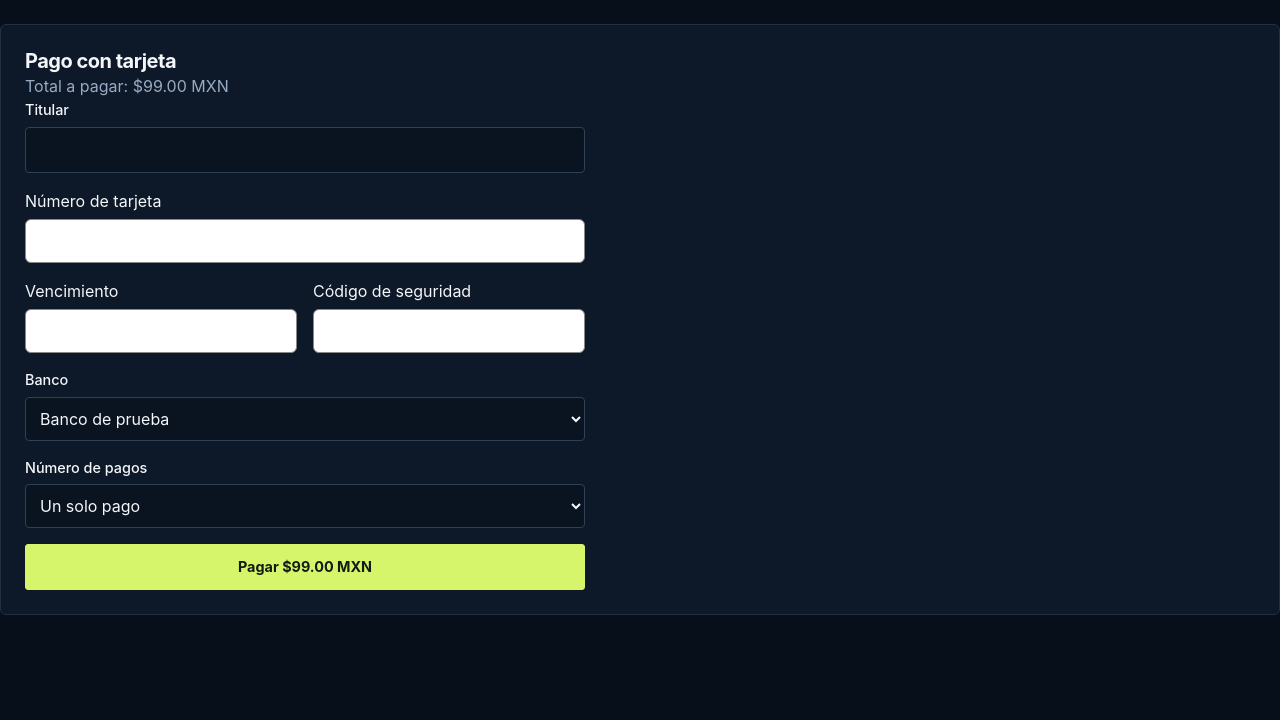
Test case: traduce errores del código de seguridad y no envía el pago
Type "APRO" into the field labelled "Titular". click: x=305, y=150
box: left=25, top=127, right=585, bottom=173
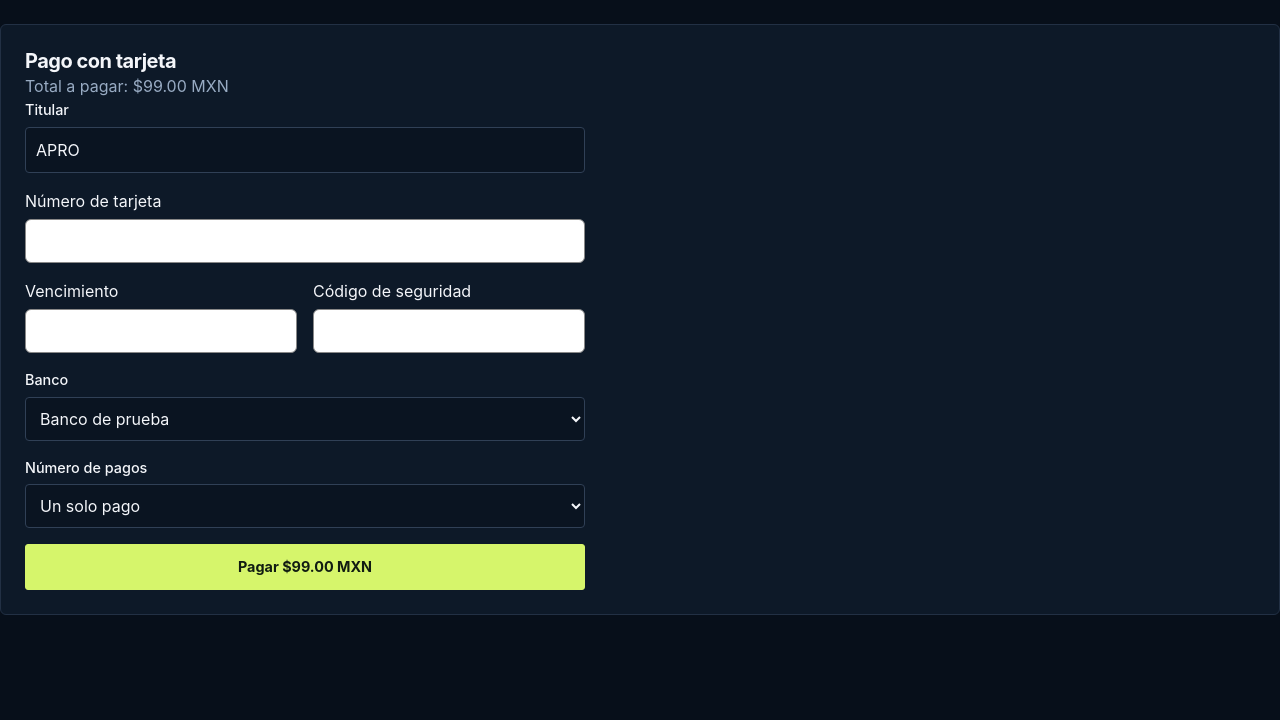
Submit the form named "Pagar $99.00 MXN", box left=25, top=99, right=585, bottom=590
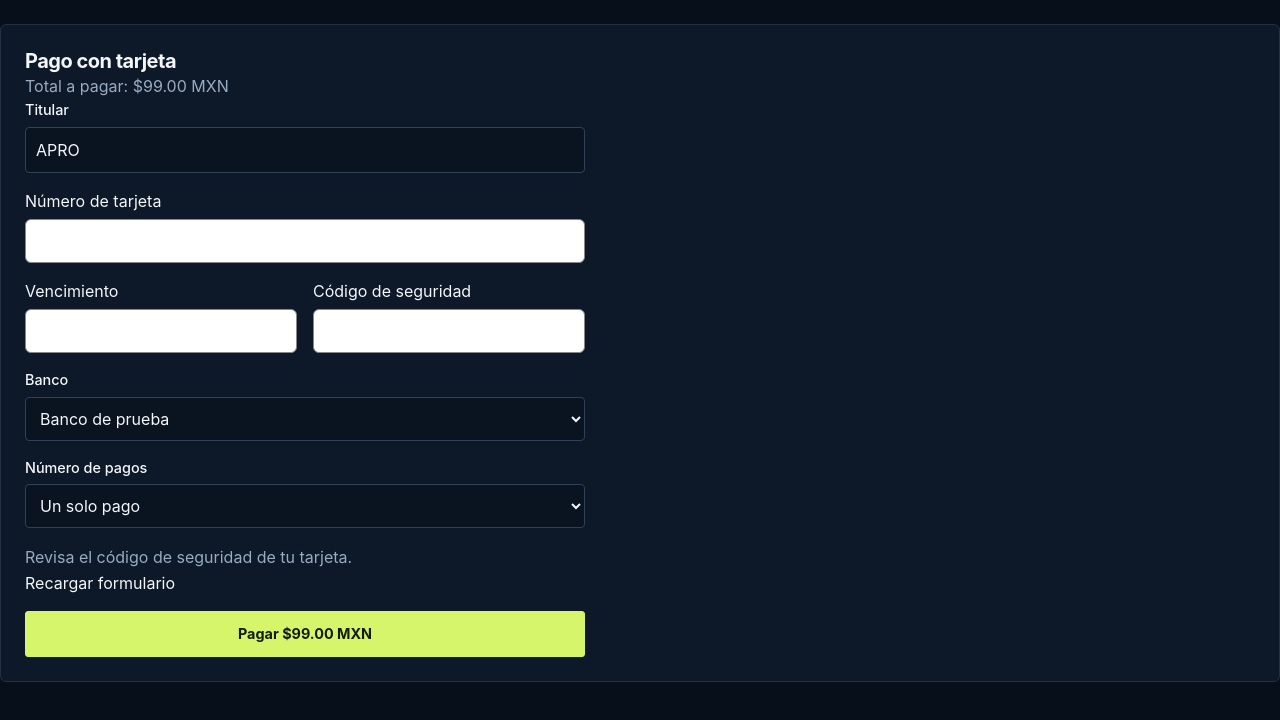
Expected: the text "Revisa el código de seguridad de tu tarjeta." is shown, left=25, top=547, right=352, bottom=567
